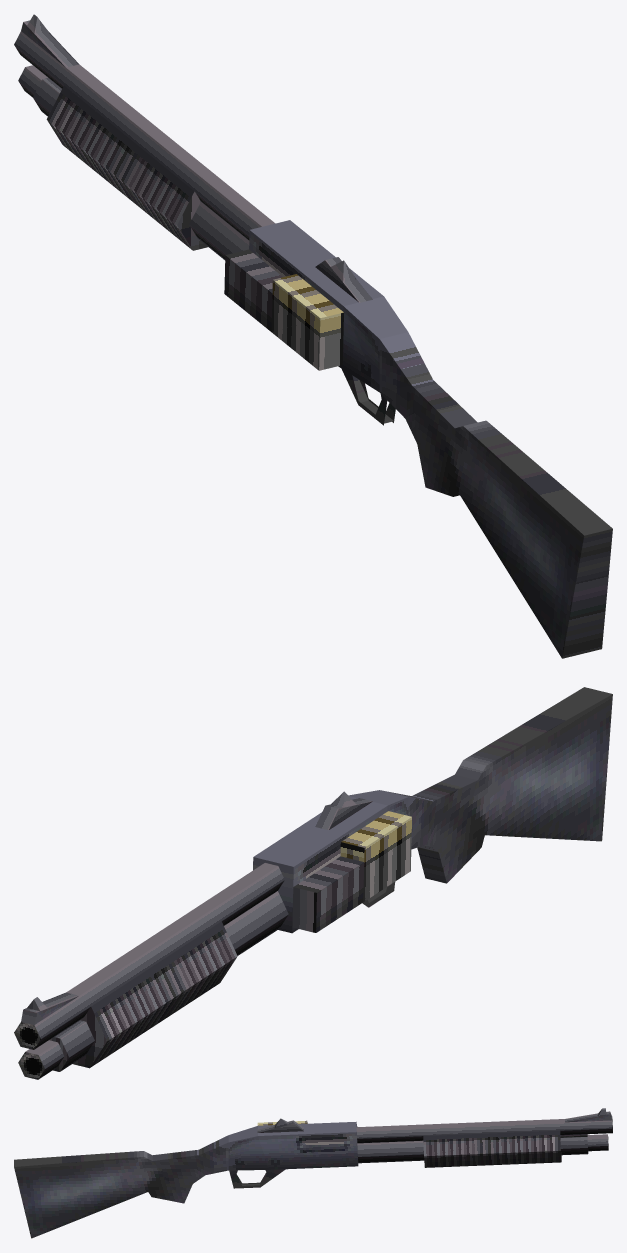
File: recovered_gun_remington870.glb
3 renders of one model, top to bottom at view 1: azimuth 30°, elevation 25°; view 2: azimuth 150°, elevation 25°; view 3: azimuth 270°, elevation 25°, orthographic. The views are drawn at different scales.
Parts seen in each view (by area): view 1: Gun_569a135d8ea9; view 2: Gun_569a135d8ea9; view 3: Gun_569a135d8ea9.
Boxes of the visible parts, <box> form: Gun_569a135d8ea9: <box>14,14,612,658</box>; Gun_569a135d8ea9: <box>14,687,612,1079</box>; Gun_569a135d8ea9: <box>14,1108,612,1238</box>.
Size of the model in its own units: 0.068 by 0.2045 by 0.8869.
1 material, 1 textured.
